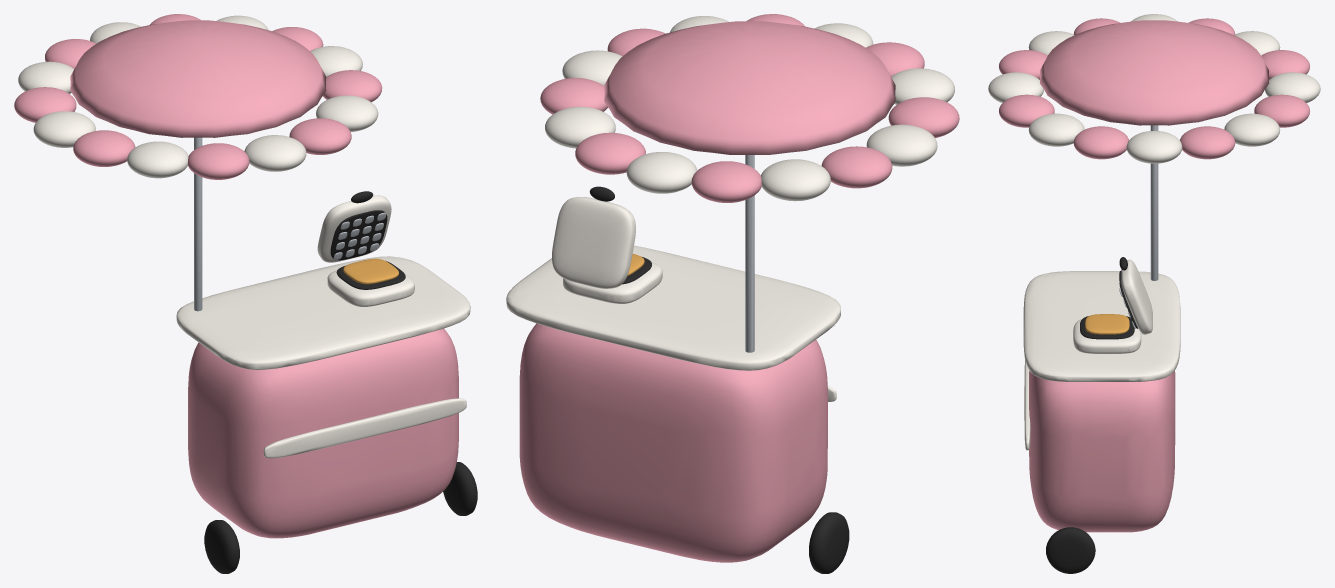
File: vitrina_wafles_1.glb
3 views of the same model, side by side, from view 1: azimuth 30°, elevation 25°; view 2: azimuth 150°, elevation 25°; view 3: azimuth 270°, elevation 25° (orthographic). The views are drawn at different scales.
Visible parts, largest first — view 1: carrito, parasol, tapa.007, franja.004, festón parasol.011, festón parasol.010, festón parasol.012, festón parasol.009, festón parasol.013, festón parasol.008, tapa wafflera, base wafflera (+12 smaller); view 2: carrito, parasol, tapa.007, tapa wafflera, festón parasol.005, festón parasol.006, festón parasol.004, festón parasol.007, festón parasol.003, festón parasol.008, festón parasol.002, festón parasol.009 (+9 smaller); view 3: carrito, parasol, tapa.007, rueda.001, festón parasol, festón parasol.001, festón parasol.015, festón parasol.002, festón parasol.014, tapa wafflera, festón parasol.003, festón parasol.013 (+11 smaller).
Boxes of the visible parts, left/top/right/bottom form: carrito: left=188, top=328, right=458, bottom=538; parasol: left=70, top=20, right=326, bottom=137; tapa.007: left=176, top=256, right=470, bottom=369; franja.004: left=263, top=398, right=466, bottom=458; festón parasol.011: left=187, top=143, right=249, bottom=179; festón parasol.010: left=127, top=141, right=188, bottom=178; festón parasol.012: left=244, top=135, right=306, bottom=171; festón parasol.009: left=73, top=130, right=135, bottom=166; festón parasol.013: left=289, top=118, right=351, bottom=154; festón parasol.008: left=33, top=111, right=95, bottom=147; tapa wafflera: left=317, top=195, right=391, bottom=262; base wafflera: left=327, top=270, right=414, bottom=306; carrito: left=519, top=323, right=827, bottom=562; parasol: left=604, top=21, right=895, bottom=154; tapa.007: left=506, top=245, right=840, bottom=370; tapa wafflera: left=552, top=197, right=635, bottom=288; festón parasol.005: left=691, top=161, right=761, bottom=202; festón parasol.006: left=761, top=159, right=830, bottom=201; festón parasol.004: left=626, top=152, right=697, bottom=193; festón parasol.007: left=821, top=146, right=892, bottom=188; festón parasol.003: left=575, top=132, right=645, bottom=174; festón parasol.008: left=866, top=124, right=937, bottom=166; festón parasol.002: left=545, top=106, right=615, bottom=148; festón parasol.009: left=888, top=97, right=959, bottom=137; carrito: left=1029, top=370, right=1175, bottom=532; parasol: left=1040, top=20, right=1268, bottom=125; tapa.007: left=1023, top=271, right=1180, bottom=381; rueda.001: left=1046, top=527, right=1095, bottom=573; festón parasol: left=1126, top=130, right=1182, bottom=163; festón parasol.001: left=1180, top=126, right=1235, bottom=159; festón parasol.015: left=1073, top=126, right=1128, bottom=159; festón parasol.002: left=1224, top=113, right=1280, bottom=146; festón parasol.014: left=1028, top=113, right=1084, bottom=146; tapa wafflera: left=1121, top=259, right=1152, bottom=334; festón parasol.003: left=1254, top=94, right=1309, bottom=127; festón parasol.013: left=999, top=94, right=1054, bottom=127.
Bounding box in the file's own units: 1.52 × 1.86 × 1.27.
